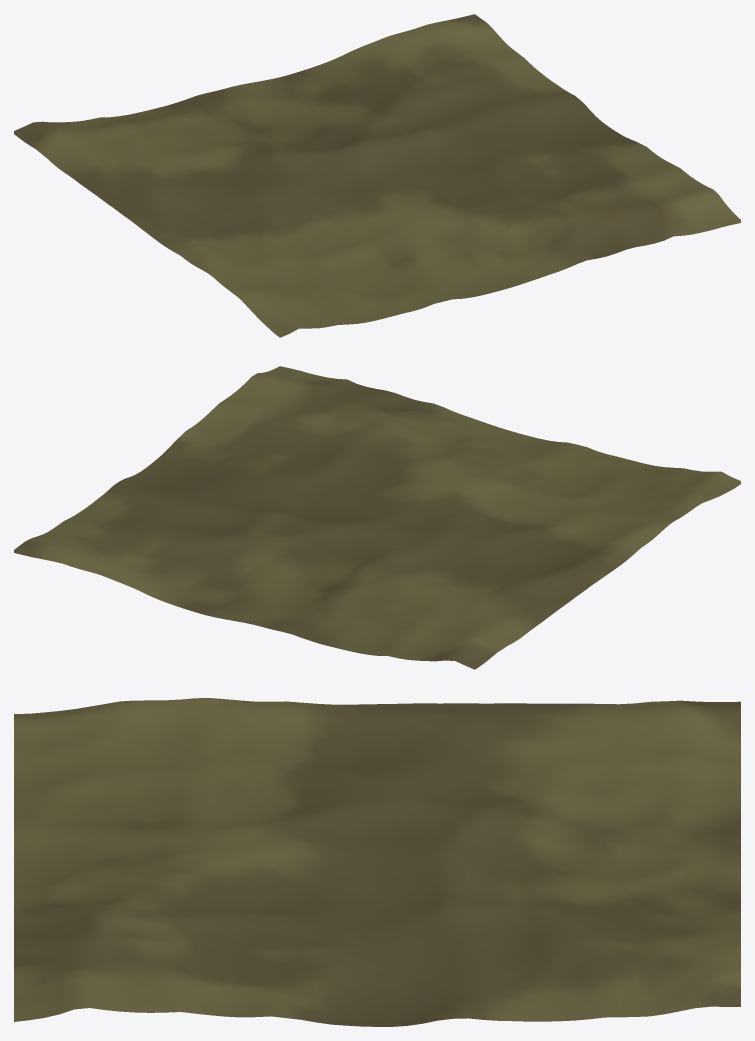
File: land_m_04_00.glb
The picture shows the model from 3 angles, top to bottom: view 1: azimuth 30°, elevation 25°; view 2: azimuth 150°, elevation 25°; view 3: azimuth 270°, elevation 25°; orthographic projection. The views are drawn at different scales.
Parts seen in each view (by area): view 1: land_m_04_00; view 2: land_m_04_00; view 3: land_m_04_00.
Part boxes in pixels (x1,y1,x2,y2): land_m_04_00: (14, 14, 740, 337); land_m_04_00: (14, 366, 740, 669); land_m_04_00: (14, 698, 740, 1026).
Size of the model in its own units: 960 by 51.16 by 960.
